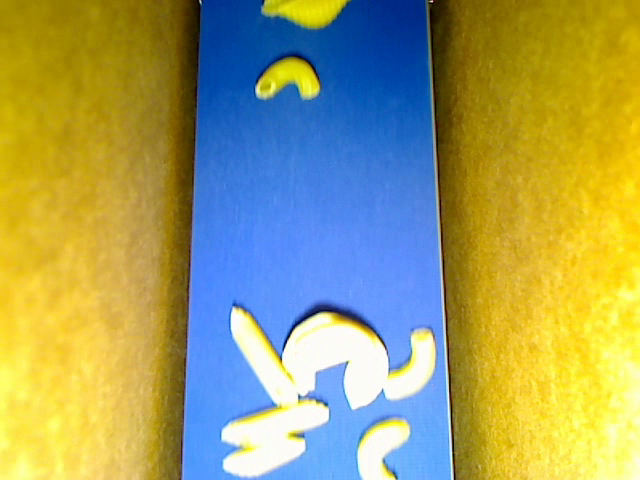elbow: (381, 328, 436, 399), (355, 418, 409, 479), (254, 56, 321, 99)
penne: (229, 306, 297, 407), (219, 401, 331, 446), (223, 435, 305, 476)
shell: (260, 1, 351, 29)
tortellini: (282, 312, 386, 409)
